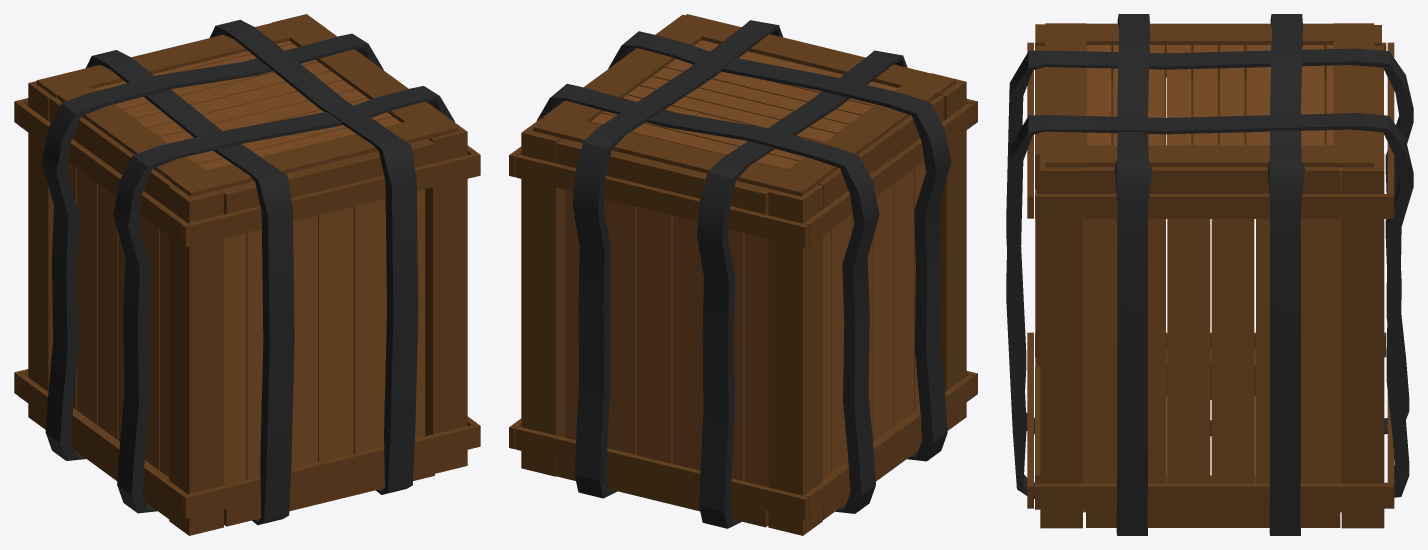
Rendered from CrateBasColour01.fbx.
The picture shows the model from 3 angles, left to right: view 1: azimuth 30°, elevation 25°; view 2: azimuth 150°, elevation 25°; view 3: azimuth 270°, elevation 25°; orthographic projection. The views are drawn at different scales.
Parts seen in each view (by area): view 1: polySurface36, polySurface72, polySurface71, polySurface69, polySurface70, polySurface34, polySurface52, polySurface53, polySurface33, polySurface51, polySurface2, polySurface6 (+26 smaller); view 2: polySurface33, polySurface72, polySurface71, polySurface69, polySurface70, polySurface35, polySurface58, polySurface57, polySurface36, polySurface59, polySurface55, polySurface8 (+26 smaller); view 3: polySurface72, polySurface70, polySurface69, polySurface35, polySurface34, polySurface39, polySurface40, polySurface42, polySurface71, polySurface37, polySurface1, polySurface5 (+24 smaller).
Part boxes in pixels (box(x1,y1,x2,y2)): polySurface36: box(169, 186, 223, 535); polySurface72: box(209, 19, 418, 494); polySurface71: box(86, 50, 294, 524); polySurface69: box(113, 86, 454, 513); polySurface70: box(42, 33, 383, 460); polySurface34: box(425, 117, 467, 473); polySurface52: box(318, 206, 353, 462); polySurface53: box(353, 199, 386, 453); polySurface33: box(28, 81, 53, 429); polySurface51: box(291, 215, 317, 468); polySurface2: box(182, 423, 480, 518); polySurface6: box(182, 152, 480, 247); polySurface33: box(768, 184, 822, 535); polySurface72: box(572, 20, 782, 498); polySurface71: box(697, 50, 907, 528); polySurface69: box(608, 31, 951, 461); polySurface70: box(536, 83, 879, 513); polySurface35: box(521, 118, 564, 476); polySurface58: box(636, 207, 672, 463); polySurface57: box(672, 216, 703, 470); polySurface36: box(931, 73, 966, 430); polySurface59: box(604, 199, 636, 454); polySurface55: box(744, 233, 768, 486); polySurface8: box(515, 154, 808, 247); polySurface72: box(1006, 113, 1413, 498); polySurface70: box(1267, 14, 1305, 535); polySurface69: box(1115, 14, 1152, 535); polySurface35: box(1341, 153, 1384, 528); polySurface34: box(1040, 153, 1082, 528); polySurface39: box(1167, 219, 1210, 483); polySurface40: box(1211, 219, 1254, 483); polySurface42: box(1300, 167, 1341, 512); polySurface71: box(1006, 48, 1413, 436); polySurface37: box(1083, 219, 1117, 512); polySurface1: box(1035, 483, 1394, 508); polySurface5: box(1035, 194, 1394, 218).
Size of the model in its own units: 14.78 by 15.1 by 14.78.
